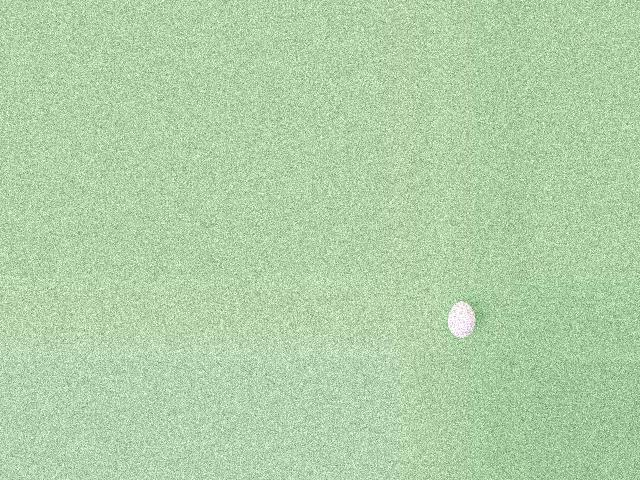egg: (447, 301, 475, 338)
